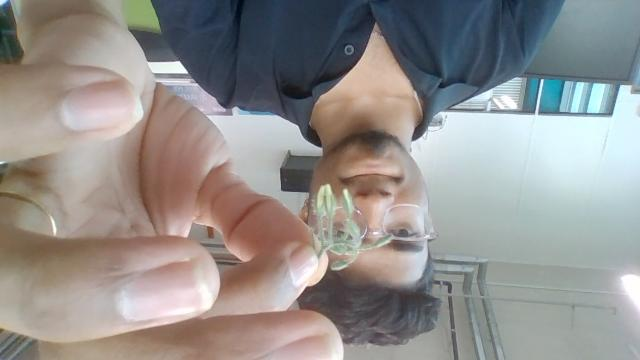Flower Bud: (315, 183, 335, 221), (356, 235, 393, 252), (342, 187, 354, 221), (330, 259, 352, 271)
